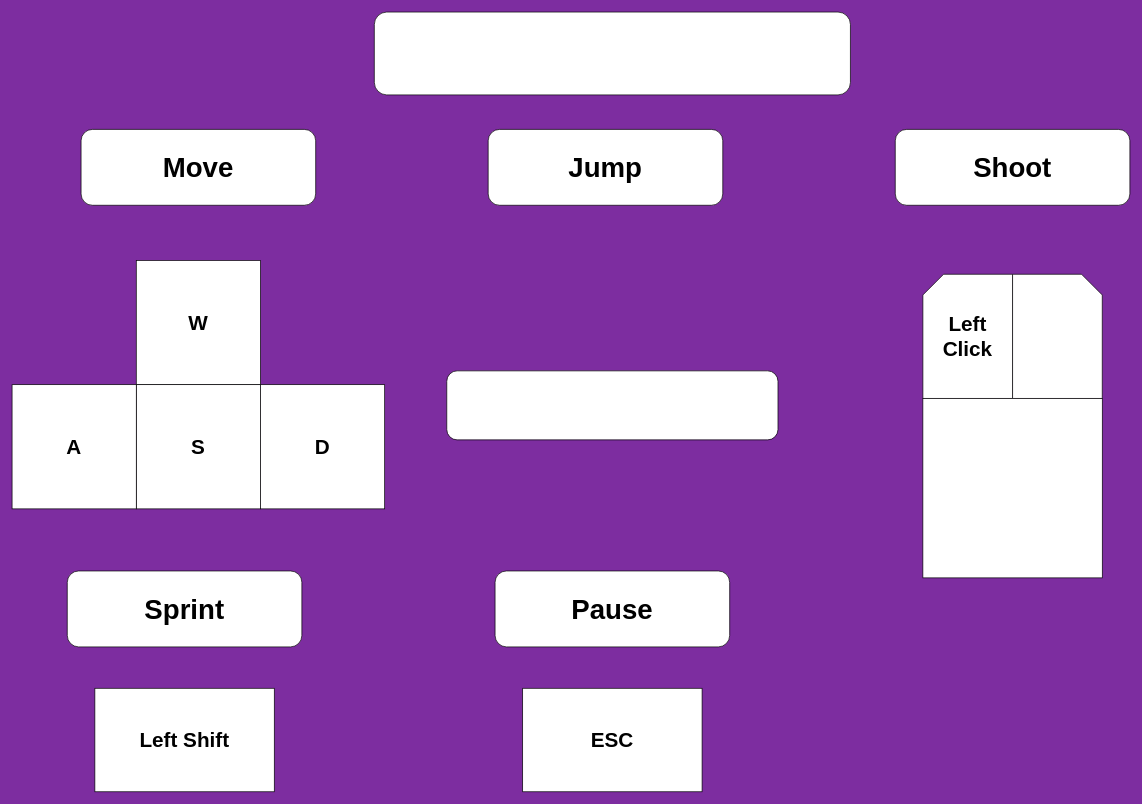
Some shapes in this 1142 by 804 pixel diagram are drawn without their labels. Each missing label, with the centre of its shape:
"CONTROLS" goes at [612,53].
"Space" goes at [612,405].
